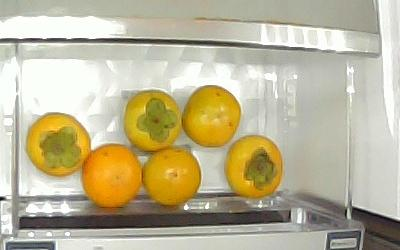persimmon: (26, 111, 91, 178), (81, 144, 143, 208), (226, 134, 285, 201), (182, 84, 243, 148), (124, 89, 183, 152), (143, 148, 202, 208)
